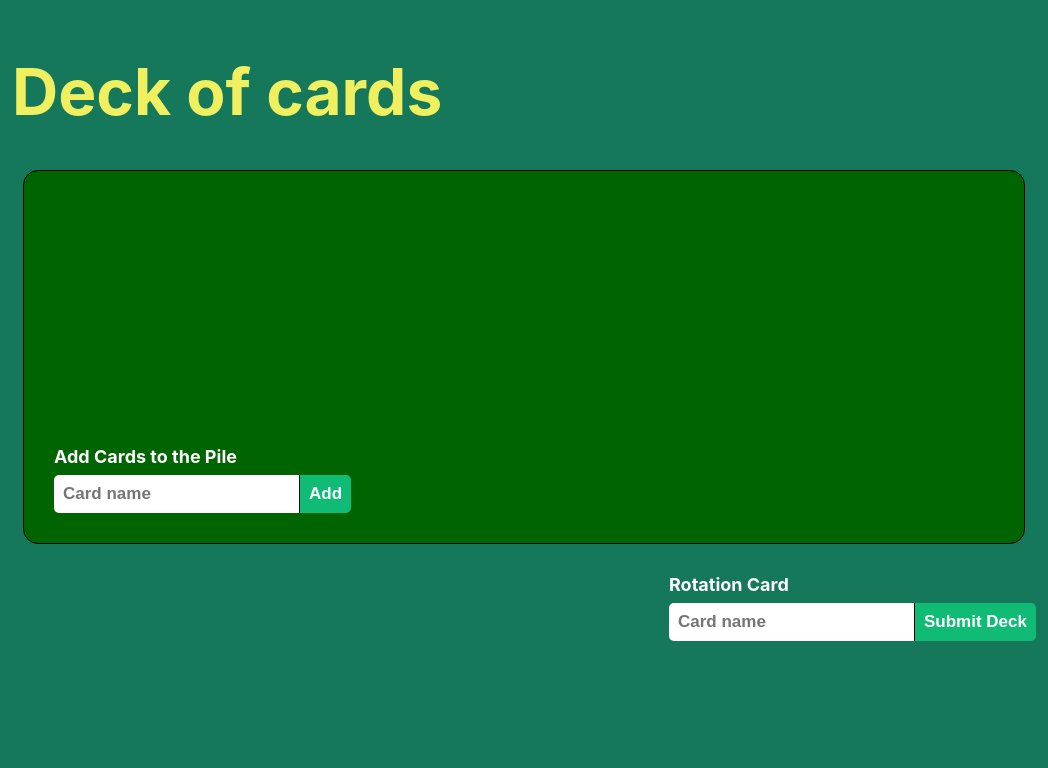
Scenario: adds a new card
The width and height of the screenshot is (1048, 768).
Type "3s" into the field labelled "Add Cards to the Pile" at {"x": 176, "y": 494}, box top-left (54, 475), bottom-right (299, 513)
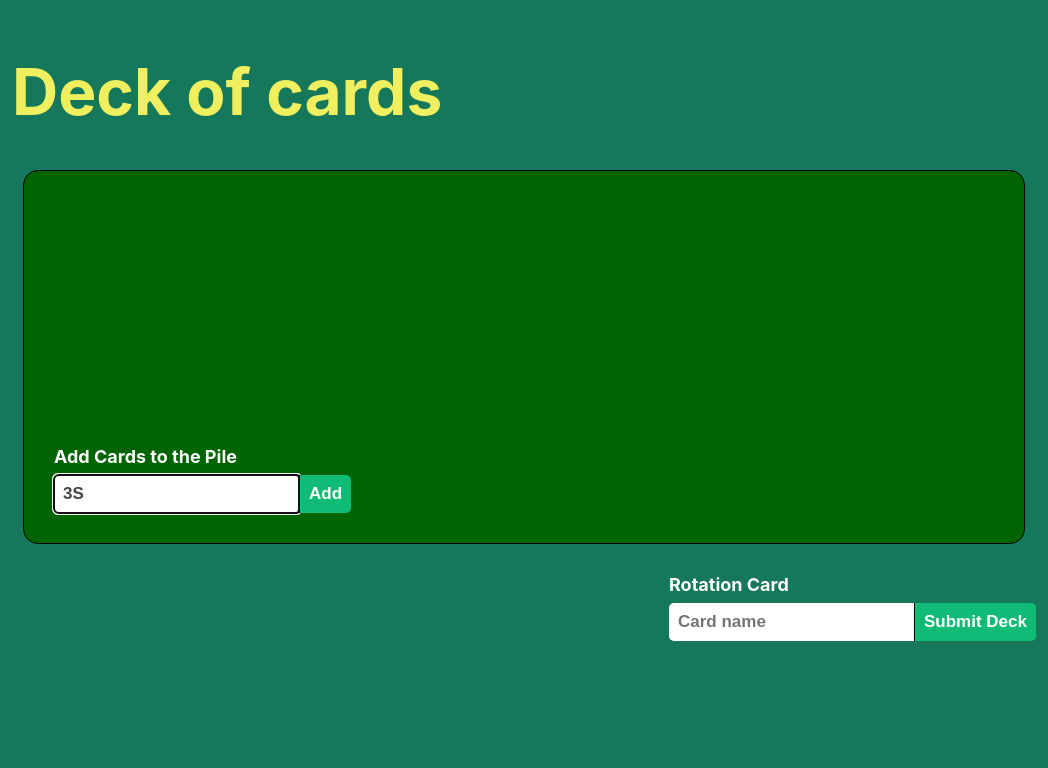
Click the button "Add" at {"x": 325, "y": 494}, box top-left (299, 475), bottom-right (351, 513)
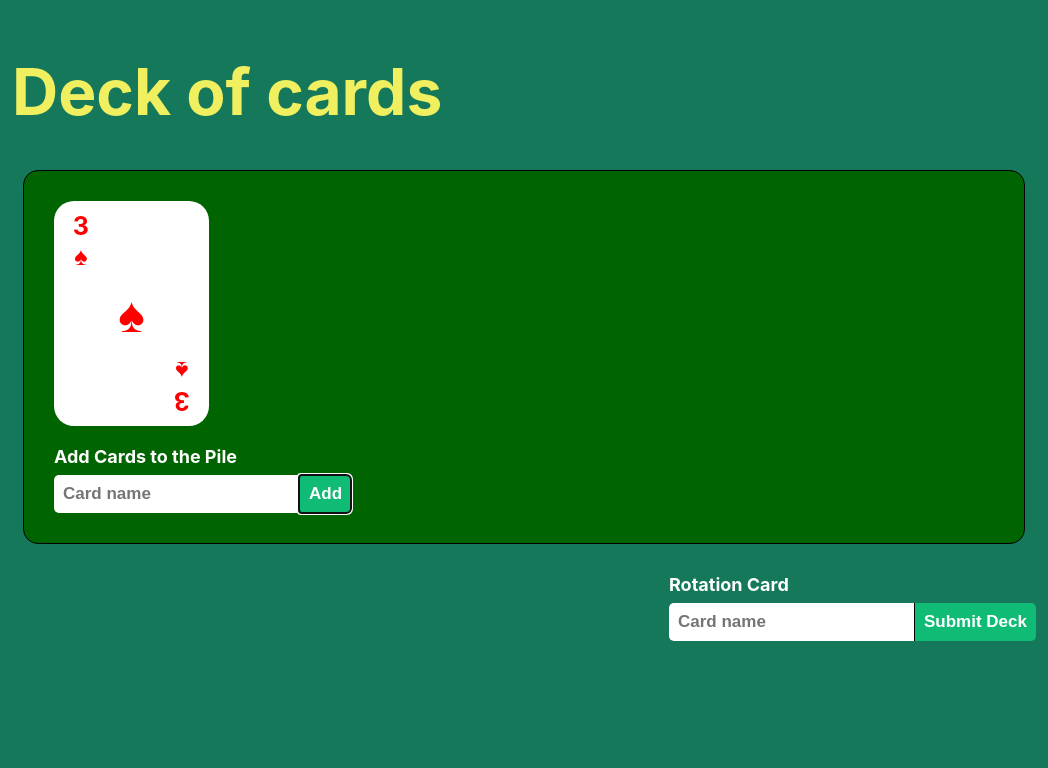
Result: the element titled "3 SPADES" is shown at top-left (54, 201), bottom-right (209, 426)
